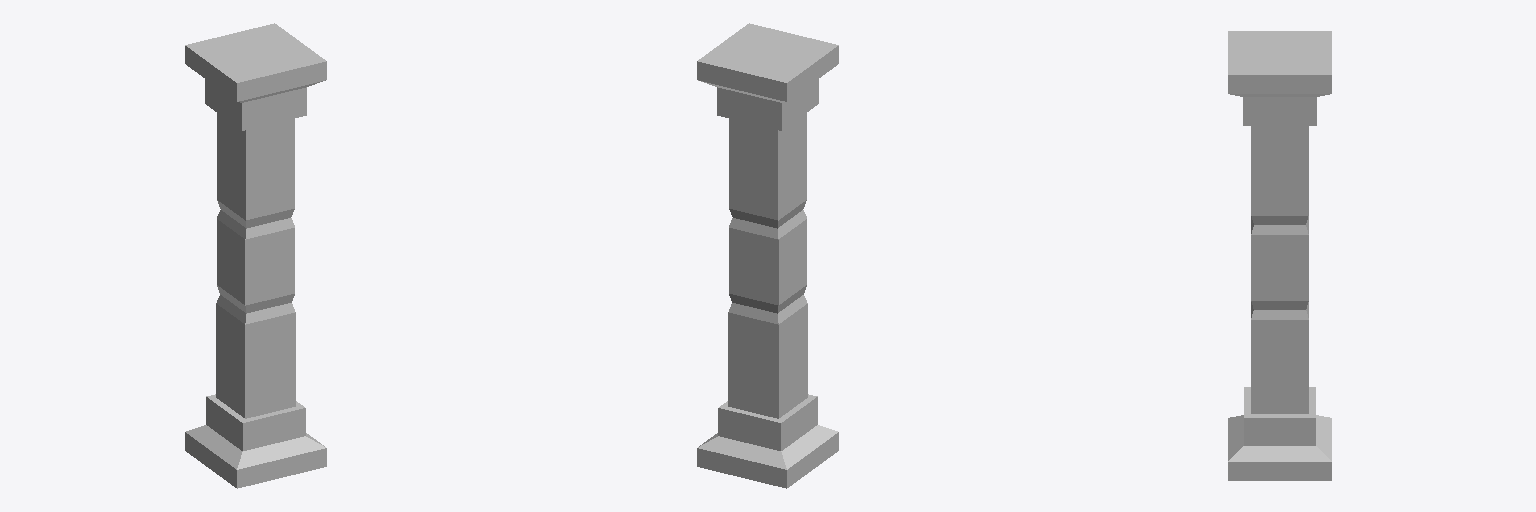
Rendered from Column00.obj.
The picture shows the model from 3 angles: view 1: azimuth 30°, elevation 25°; view 2: azimuth 150°, elevation 25°; view 3: azimuth 270°, elevation 25°; orthographic projection.
Visible parts, largest first — view 1: Cube.001; view 2: Cube.001; view 3: Cube.001.
Boxes of the visible parts, x1=… form: Cube.001: x1=185, y1=23, x2=326, y2=488; Cube.001: x1=697, y1=23, x2=838, y2=488; Cube.001: x1=1228, y1=31, x2=1331, y2=480.
Size of the model in its own units: 1 by 4.3 by 1.